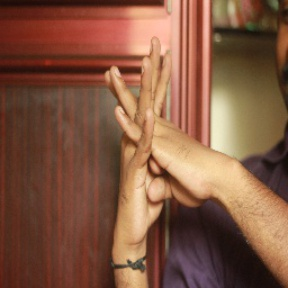W: (97, 32, 212, 213)
